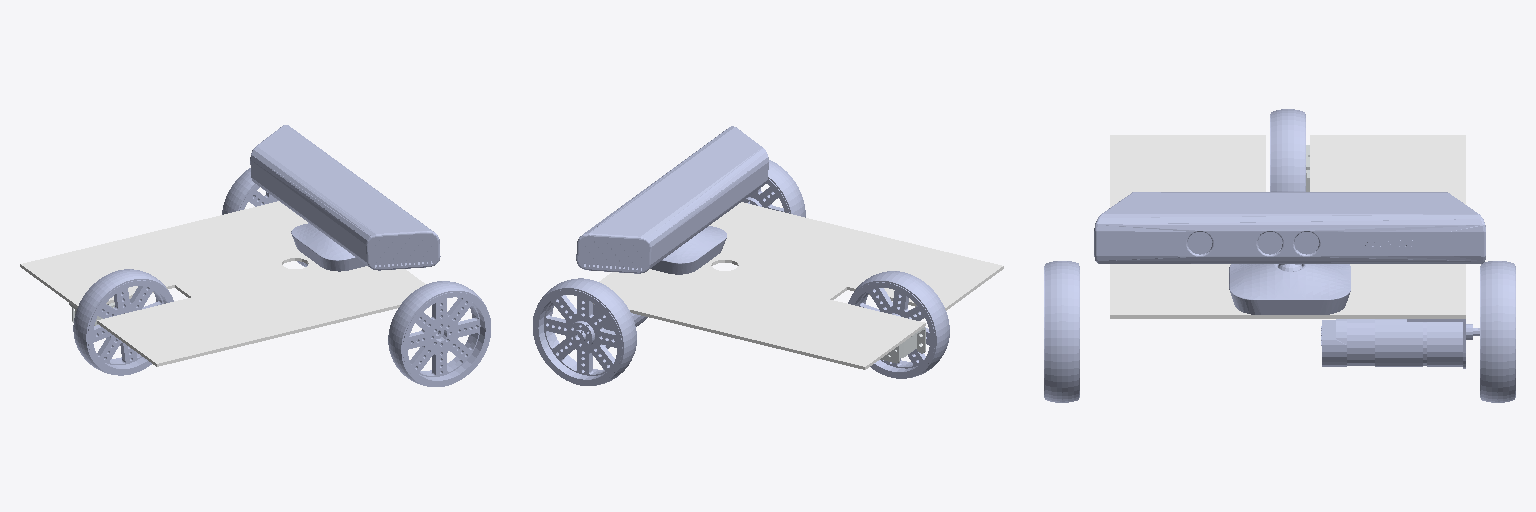
robot.urdf — rover_description:
<robot
  name="rover_description">
  <link name="base_footprint" />
  <joint name="base_joint" type="fixed">
    <origin
      xyz="0 0 0"
      rpy="0 0 -1.57079632679" />
    <parent
      link="base_footprint" />
    <child
      link="base_link" />
    <axis
      xyz="0 0 0" />
  </joint>
  <link
    name="base_link">
    <inertial>
      <origin
        xyz="0.00093677 -0.067236 0.0052176"
        rpy="0 0 0" />
      <mass
        value="0.23396" />
      <inertia
        ixx="0.0017771"
        ixy="-3.048E-18"
        ixz="1.8439E-17"
        iyy="0.0013208"
        iyz="-6.1924E-17"
        izz="0.0030975" />
    </inertial>
    <visual>
      <origin
        xyz="0 0 0"
        rpy="0 0 0" />
      <geometry>
        <mesh
          filename="package://rover_description/meshes/base_link.STL" />
      </geometry>
      <material
        name="">
        <color
          rgba="1 1 1 1" />
      </material>
    </visual>
    <collision>
      <origin
        xyz="0 0 0"
        rpy="0 0 0" />
      <geometry>
        <mesh
          filename="package://rover_description/meshes/base_link.STL" />
      </geometry>
    </collision>
  </link>
  <link
    name="left_motor">
    <inertial>
      <origin
        xyz="-0.07744 0.061196 -0.021715"
        rpy="0 0 0" />
      <mass
        value="0.1138" />
      <inertia
        ixx="2.1583E-05"
        ixy="3.0364E-10"
        ixz="4.8958E-06"
        iyy="0.00011195"
        iyz="-2.1905E-12"
        izz="0.00011048" />
    </inertial>
    <visual>
      <origin
        xyz="0 0 0"
        rpy="0 0 0" />
      <geometry>
        <mesh
          filename="package://rover_description/meshes/motor.STL" />
      </geometry>
      <material
        name="">
        <color
          rgba="0.79216 0.81961 0.93333 1" />
      </material>
    </visual>
    <collision>
      <origin
        xyz="0 0 0"
        rpy="0 0 0" />
      <geometry>
        <mesh
          filename="package://rover_description/meshes/motor.STL" />
      </geometry>
    </collision>
  </link>
  <joint
    name="left_base_motor"
    type="fixed">
    <origin
      xyz="0 0 0"
      rpy="0 0 0" />
    <parent
      link="base_link" />
    <child
      link="left_motor" />
    <axis
      xyz="0 0 0" />
  </joint>
  <link
    name="left_wheel">
    <inertial>
      <origin
        xyz="-2.764E-06 4.8644E-06 0.005478"
        rpy="0 0 0" />
      <mass
        value="0.081427" />
      <inertia
        ixx="7.3757E-05"
        ixy="-1.5974E-09"
        ixz="-1.4221E-09"
        iyy="7.3759E-05"
        iyz="2.4596E-09"
        izz="0.0001415" />
    </inertial>
    <visual>
      <origin
        xyz="0 0 0"
        rpy="0 0 0" />
      <geometry>
        <mesh
          filename="package://rover_description/meshes/wheel.STL" />
      </geometry>
      <material
        name="">
        <color
          rgba="0.79216 0.81961 0.93333 1" />
      </material>
    </visual>
    <collision>
      <origin
        xyz="0 0 0"
        rpy="0 0 0" />
      <geometry>
        <mesh
          filename="package://rover_description/meshes/wheel.STL" />
      </geometry>
    </collision>
  </link>
  <joint
    name="left_motor_wheel"
    type="continuous">
    <origin
      xyz="-0.154088226956502 0.0611962943866442 -0.0153699991323036"
      rpy="1.5707963267949 -6.12303176911189E-17 -1.5707963267949" />
    <parent
      link="left_motor" />
    <child
      link="left_wheel" />
    <axis
      xyz="0 0 1" />
  </joint>
  <link
    name="right_motor">
    <inertial>
      <origin
        xyz="0.079313 0.061196 -0.021715"
        rpy="0 0 0" />
      <mass
        value="0.1138" />
      <inertia
        ixx="2.1583E-05"
        ixy="3.0363E-10"
        ixz="-4.8958E-06"
        iyy="0.00011195"
        iyz="2.191E-12"
        izz="0.00011048" />
    </inertial>
    <visual>
      <origin
        xyz="0 0 0"
        rpy="0 0 0" />
      <geometry>
        <mesh
          filename="package://rover_description/meshes/motor.STL" />
      </geometry>
      <material
        name="">
        <color
          rgba="0.79216 0.81961 0.93333 1" />
      </material>
    </visual>
    <collision>
      <origin
        xyz="0 0 0"
        rpy="0 0 0" />
      <geometry>
        <mesh
          filename="package://rover_description/meshes/motor.STL" />
      </geometry>
    </collision>
  </link>
  <joint
    name="right_base_motor"
    type="fixed">
    <origin
      xyz="0 0 0"
      rpy="0 0 0" />
    <parent
      link="base_link" />
    <child
      link="right_motor" />
    <axis
      xyz="0 0 0" />
  </joint>
  <link
    name="right_wheel">
    <inertial>
      <origin
        xyz="-2.764E-06 -4.8644E-06 -0.005478"
        rpy="0 0 0" />
      <mass
        value="0.081427" />
      <inertia
        ixx="7.3757E-05"
        ixy="1.5974E-09"
        ixz="1.4221E-09"
        iyy="7.3759E-05"
        iyz="2.4596E-09"
        izz="0.0001415" />
    </inertial>
    <visual>
      <origin
        xyz="0 0 0"
        rpy="0 0 0" />
      <geometry>
        <mesh
          filename="package://rover_description/meshes/wheel.STL" />
      </geometry>
      <material
        name="">
        <color
          rgba="0.79216 0.81961 0.93333 1" />
      </material>
    </visual>
    <collision>
      <origin
        xyz="0 0 0"
        rpy="0 0 0" />
      <geometry>
        <mesh
          filename="package://rover_description/meshes/wheel.STL" />
      </geometry>
    </collision>
  </link>
  <joint
    name="right_motor_wheel"
    type="continuous">
    <origin
      xyz="0.155961773043498 0.0611961975622282 -0.0153699991323079"
      rpy="-1.5707963267949 6.12303176911189E-17 1.5707963267949" />
    <parent
      link="right_motor" />
    <child
      link="right_wheel" />
    <axis
      xyz="0 0 1" />
  </joint>
  <link
    name="kinect">
    <inertial>
      <origin
        xyz="-0.0068373 0.0042244 0.031822"
        rpy="0 0 0" />
      <mass
        value="0.65866" />
      <inertia
        ixx="0.00041777"
        ixy="9.1647E-07"
        ixz="-3.4668E-07"
        iyy="0.0031339"
        iyz="-3.614E-06"
        izz="0.003112" />
    </inertial>
    <visual>
      <origin
        xyz="0 0 0"
        rpy="0 0 0" />
      <geometry>
        <mesh
          filename="package://rover_description/meshes/kinect.STL" />
      </geometry>
      <material
        name="">
        <color
          rgba="0.79216 0.81961 0.93333 1" />
      </material>
    </visual>
    <collision>
      <origin
        xyz="0 0 0"
        rpy="0 0 0" />
      <geometry>
        <mesh
          filename="package://rover_description/meshes/kinect.STL" />
      </geometry>
    </collision>
  </link>
  <joint
    name="base_kinect"
    type="fixed">
    <origin
      xyz="-0.00759452430503809 0.0504215122087093 0.0200553726387249"
      rpy="6.12303176911189E-17 0 3.14159265358979" />
    <parent
      link="base_link" />
    <child
      link="kinect" />
    <axis
      xyz="0 0 0" />
  </joint>
  <link
    name="back_servo">
    <inertial>
      <origin
        xyz="-0.02692 -0.19456 -0.0084858"
        rpy="0 0 0" />
      <mass
        value="0.044316" />
      <inertia
        ixx="1.0438E-05"
        ixy="-4.5012E-08"
        ixz="7.3126E-08"
        iyy="8.9687E-06"
        iyz="5.0183E-09"
        izz="1.4219E-05" />
    </inertial>
    <visual>
      <origin
        xyz="0 0 0"
        rpy="0 0 0" />
      <geometry>
        <mesh
          filename="package://rover_description/meshes/back_servo.STL" />
      </geometry>
      <material
        name="">
        <color
          rgba="0.89804 0.91765 0.92941 1" />
      </material>
    </visual>
    <collision>
      <origin
        xyz="0 0 0"
        rpy="0 0 0" />
      <geometry>
        <mesh
          filename="package://rover_description/meshes/back_servo.STL" />
      </geometry>
    </collision>
  </link>
  <joint
    name="back_base_servo"
    type="fixed">
    <origin
      xyz="0 0 0"
      rpy="0 0 0" />
    <parent
      link="base_link" />
    <child
      link="back_servo" />
    <axis
      xyz="0 0 0" />
  </joint>
  <link
    name="back_wheel">
    <inertial>
      <origin
        xyz="-8.2119E-11 0.0062661 -1.1759E-10"
        rpy="0 0 0" />
      <mass
        value="0.080367" />
      <inertia
        ixx="7.364E-05"
        ixy="-1.8539E-14"
        ixz="-9.0226E-14"
        iyy="0.00014142"
        iyz="-5.5154E-11"
        izz="7.364E-05" />
    </inertial>
    <visual>
      <origin
        xyz="0 0 0"
        rpy="0 0 0" />
      <geometry>
        <mesh
          filename="package://rover_description/meshes/back_wheel.STL" />
      </geometry>
      <material
        name="">
        <color
          rgba="0.79216 0.81961 0.93333 1" />
      </material>
    </visual>
    <collision>
      <origin
        xyz="0 0 0"
        rpy="0 0 0" />
      <geometry>
        <mesh
          filename="package://rover_description/meshes/back_wheel.STL" />
      </geometry>
    </collision>
  </link>
  <joint
    name="back_servo_wheel"
    type="continuous">
    <origin
      xyz="-0.00543822695650345 -0.184603754025564 -0.0108699152799119"
      rpy="-1.76320433342964E-14 -0.648623383307188 -1.57079632679489" />
    <parent
      link="back_servo" />
    <child
      link="back_wheel" />
    <axis
      xyz="0 1 0" />
  </joint>

  <link name="kinect_rgb">
      <!-- <inertial>
        <mass value="1e-5"/>
        <origin xyz="0 0 0" rpy="0 0 0"/>
        <inertia ixx="1e-6" ixy="0" ixz="0" iyy="1e-6" iyz="0" izz="1e-6"/>
      </inertial>
      <collision>
        <origin xyz="0 0 0" rpy="0 0 0"/>
        <geometry>
          <sphere radius=".01"/>
        </geometry>
      </collision>
      <visual>
        <origin xyz="0 0 0" rpy="0 0 0"/>
        <geometry>
          <sphere radius=".01"/>
        </geometry>
      </visual> -->
    </link>

    <joint name="kinect_base_rgb" type="fixed">
      <origin xyz="0.014 0.075 0.06" rpy="0 0 1.57079632679"/>
      <parent link="base_link"/>
      <child link="kinect_rgb"/>
    </joint>

    <link name="kinect_depth">
      <!-- <inertial>
        <mass value="1e-5"/>
        <origin xyz="0 0 0" rpy="0 0 0"/>
        <inertia ixx="1e-6" ixy="0" ixz="0" iyy="1e-6" iyz="0" izz="1e-6"/>
      </inertial>
      <collision>
        <origin xyz="0 0 0" rpy="0 0 0"/>
        <geometry>
          <sphere radius=".01"/>
        </geometry>
      </collision>
      <visual>
        <origin xyz="0 0 0" rpy="0 0 0"/>
        <geometry>
          <sphere radius=".01"/>
        </geometry>
      </visual> -->
    </link>

    <joint name="kinect_base_depth" type="fixed">
      <origin xyz="-0.013 0.075 0.06" rpy="-1.57079632679 0 0"/>
      <parent link="base_link"/>
      <child link="kinect_depth"/>
    </joint>

    <link name="scan_link"/>

    <joint name="depth_scan" type="fixed">
      <origin xyz="0 0 0" rpy="1.57079632679 -1.57079632679 0"/>
      <parent link="kinect_depth"/>
      <child link="scan_link"/>
    </joint>

  <gazebo reference="kinect">
      <material>Gazebo/Black</material>
  </gazebo>

  <gazebo reference="left_wheel">
      <kp>1000.0</kp>
      <kd>1000.0</kd>
      <mu1>1</mu1>
      <mu2>1</mu2>
      <material>Gazebo/Black</material>
  </gazebo>

  <gazebo reference="right_wheel">
      <kp>1000.0</kp>
      <kd>1000.0</kd>
      <mu1>1</mu1>
      <mu2>1</mu2>
      <material>Gazebo/Black</material>
  </gazebo>

  <gazebo reference="back_wheel">
      <kp>1000</kp>
      <kd>1000</kd>
      <mu1>1</mu1>
      <mu2>1</mu2>
      <material>Gazebo/Black</material>
  </gazebo>

  <gazebo>
    <plugin filename="libgazebo_ros_diff_drive.so" name="differential_drive_controller_front">
      <rosDebugLevel>Debug</rosDebugLevel>
      <publishWheelTF>True</publishWheelTF>
      <publishTf>1</publishTf>
      <publishWheelJointState>true</publishWheelJointState>
      <alwaysOn>true</alwaysOn>
      <updateRate>100.0</updateRate>
      <leftJoint>right_motor_wheel</leftJoint>
      <rightJoint>left_motor_wheel</rightJoint>
      <wheelSeparation>0.3</wheelSeparation>
      <wheelDiameter>0.1016</wheelDiameter>
      <broadcastTF>1</broadcastTF>
      <wheelTorque>30</wheelTorque>
      <wheelAcceleration>1.8</wheelAcceleration>
      <commandTopic>cmd_vel</commandTopic>
      <odometryFrame>odom</odometryFrame>
      <odometryTopic>odom</odometryTopic>
      <robotBaseFrame>base_footprint</robotBaseFrame>
    </plugin>
  </gazebo>

  <transmission name="tran1">
      <type>transmission_interface/SimpleTransmission</type>
      <joint name="left_motor_wheel">
          <hardwareInterface>VelocityJointInterface</hardwareInterface>
      </joint>
      <actuator name="motor1">
          <hardwareInterface>VelocityJointInterface</hardwareInterface>
          <mechanicalReduction>1</mechanicalReduction>
      </actuator>
  </transmission>

  <transmission name="tran2">
      <type>transmission_interface/SimpleTransmission</type>
      <joint name="right_motor_wheel">
          <hardwareInterface>VelocityJointInterface</hardwareInterface>
      </joint>
      <actuator name="motor2">
          <hardwareInterface>VelocityJointInterface</hardwareInterface>
          <mechanicalReduction>1</mechanicalReduction>
      </actuator>
  </transmission>

  <gazebo reference="kinect_rgb">  
      <sensor type="depth" name="camera">
        <always_on>true</always_on>
        <update_rate>20.0</update_rate>
        <camera>
          <horizontal_fov>1.0471975512</horizontal_fov>
          <image>
            <format>R8G8B8</format>
            <width>640</width>
            <height>480</height>
          </image>
          <clip>
            <near>0.05</near>
            <far>8.0</far>
          </clip>
        </camera>
        <plugin name="kinect_camera_controller" filename="libgazebo_ros_openni_kinect.so">
          <cameraName>camera</cameraName>
          <alwaysOn>true</alwaysOn>
          <updateRate>10</updateRate>
          <imageTopicName>rgb/image_raw</imageTopicName>
          <depthImageTopicName>depth/image_raw</depthImageTopicName>
          <pointCloudTopicName>depth/points</pointCloudTopicName>
          <cameraInfoTopicName>rgb/camera_info</cameraInfoTopicName>
          <depthImageCameraInfoTopicName>depth/camera_info</depthImageCameraInfoTopicName>
          <frameName>kinect_depth</frameName>
          <baseline>0.1</baseline>
          <distortion_k1>0.0</distortion_k1>
          <distortion_k2>0.0</distortion_k2>
          <distortion_k3>0.0</distortion_k3>
          <distortion_t1>0.0</distortion_t1>
          <distortion_t2>0.0</distortion_t2>
          <pointCloudCutoff>0.4</pointCloudCutoff>
        </plugin>
      </sensor>
    </gazebo>

    <gazebo>
       <joint name="world_joint" type="revolute">
         <parent link="world"/>
         <child link="base_footprint"/>
       </joint>
     </gazebo>
     <gazebo>
       <joint name="odom_joint" type="revolute">
         <parent link="odom"/>
         <child link="base_footprint"/>
       </joint>
     </gazebo>

</robot>

--- What the picture shows (computed from the rendered views, not written in the file) ---
The picture shows the robot from 3 angles, left to right: view 1: azimuth 30°, elevation 25°; view 2: azimuth 150°, elevation 25°; view 3: azimuth 270°, elevation 25°; orthographic projection.
Robot: rover_description — 12 links, 11 joints (3 continuous, 8 fixed); root link base_footprint; default pose: every joint at zero.
Links seen in each view (by area): view 1: base_link, kinect, right_wheel, back_wheel, left_wheel; view 2: base_link, kinect, left_wheel, back_wheel, right_wheel, back_servo; view 3: kinect, base_link, left_motor, right_wheel, left_wheel, back_wheel.
Link boxes in pixels (x1,y1,x2,y2): base_link: (20, 201, 425, 366); kinect: (250, 125, 440, 271); right_wheel: (388, 281, 490, 386); back_wheel: (73, 269, 173, 375); left_wheel: (222, 168, 277, 214); base_link: (593, 202, 1003, 369); kinect: (576, 126, 768, 274); left_wheel: (533, 278, 636, 385); back_wheel: (848, 271, 949, 378); right_wheel: (742, 160, 805, 217); back_servo: (880, 327, 925, 363); kinect: (1094, 192, 1485, 314); base_link: (1110, 135, 1465, 318); left_motor: (1321, 319, 1479, 368); right_wheel: (1044, 261, 1079, 402); left_wheel: (1480, 261, 1515, 402); back_wheel: (1270, 109, 1305, 191).
Bounding box of the posed robot: 0.3473 × 0.3354 × 0.1447 m (x, y, z).
8 mesh visuals loaded from 6 distinct referenced files (6 binary STL).